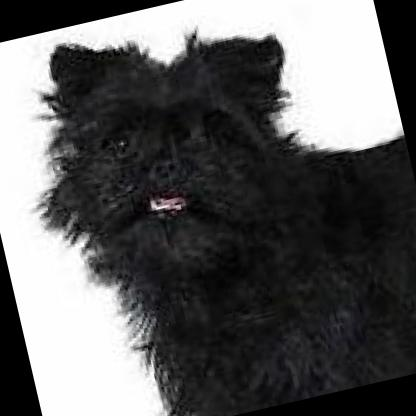affenpinscher: (1, 0, 416, 416)
